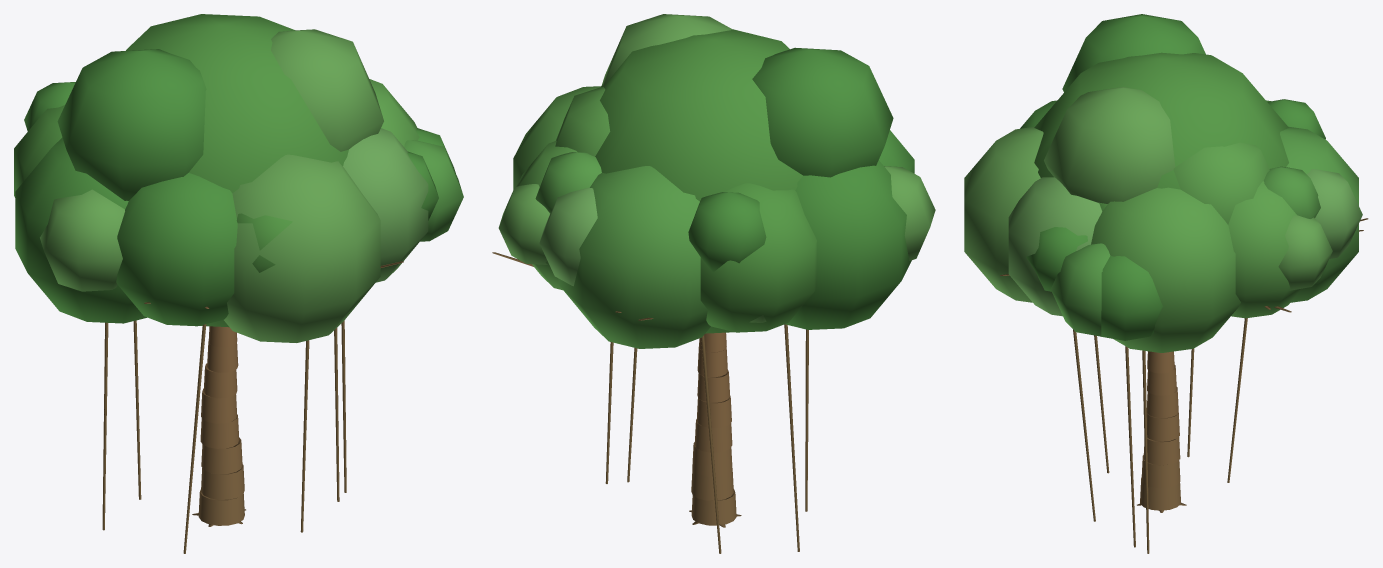
The model's file is banyan_tree.glb.
3 views of the same model, side by side, from view 1: azimuth 30°, elevation 25°; view 2: azimuth 150°, elevation 25°; view 3: azimuth 270°, elevation 25° (orthographic). The views are drawn at different scales.
Parts seen in each view (by area): view 1: BanyanTree; view 2: BanyanTree; view 3: BanyanTree.
Boxes of the visible parts, box(x1,y1,x2,y2) form: BanyanTree: box(14, 14, 463, 553); BanyanTree: box(492, 14, 935, 553); BanyanTree: box(964, 14, 1368, 553).
Bounding box in the file's own units: 11.27 × 12.9 × 10.59.
